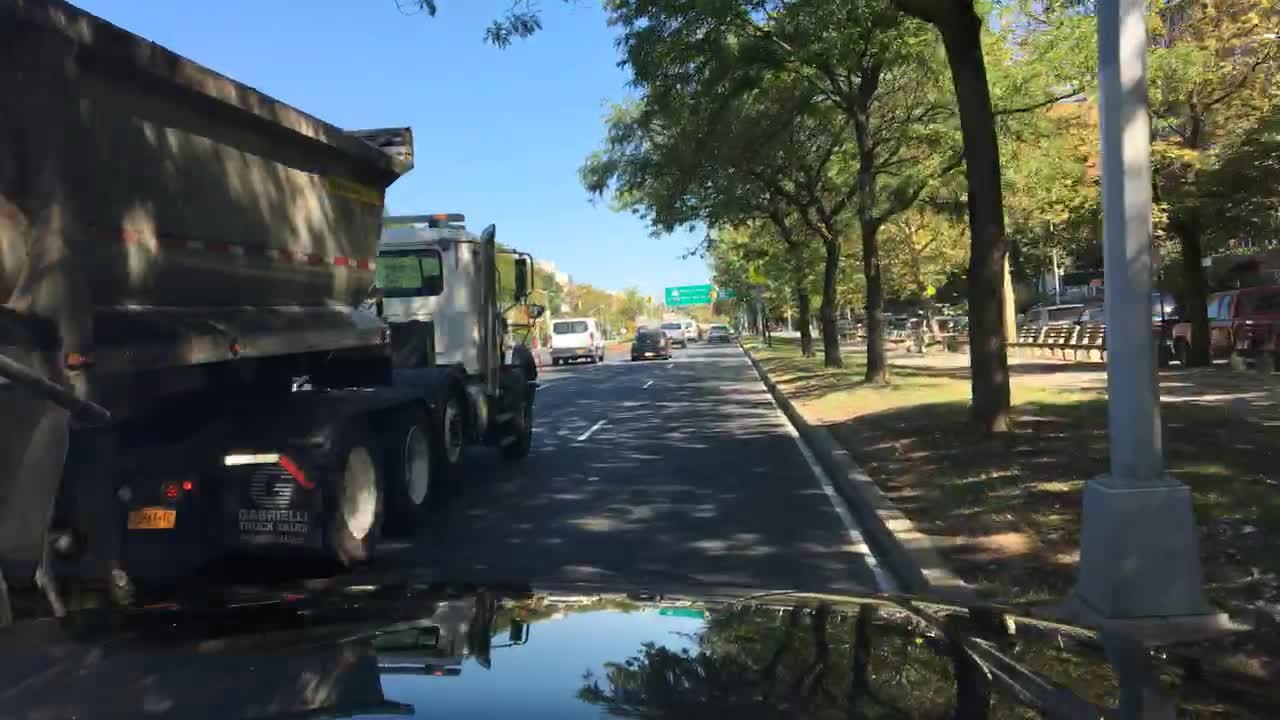car: (1171, 274, 1279, 367), (1091, 288, 1179, 324), (1015, 303, 1091, 341), (551, 316, 603, 364), (629, 324, 672, 363), (930, 312, 967, 337), (662, 321, 689, 347), (885, 313, 912, 338), (833, 318, 855, 339), (707, 324, 731, 343), (682, 318, 700, 342), (819, 314, 835, 334), (764, 321, 786, 332), (697, 319, 703, 338)
person: (916, 318, 929, 353)
traffic sign: (665, 284, 711, 304), (749, 261, 765, 283), (716, 288, 732, 297), (927, 284, 934, 294)
truck: (2, 1, 542, 623)
